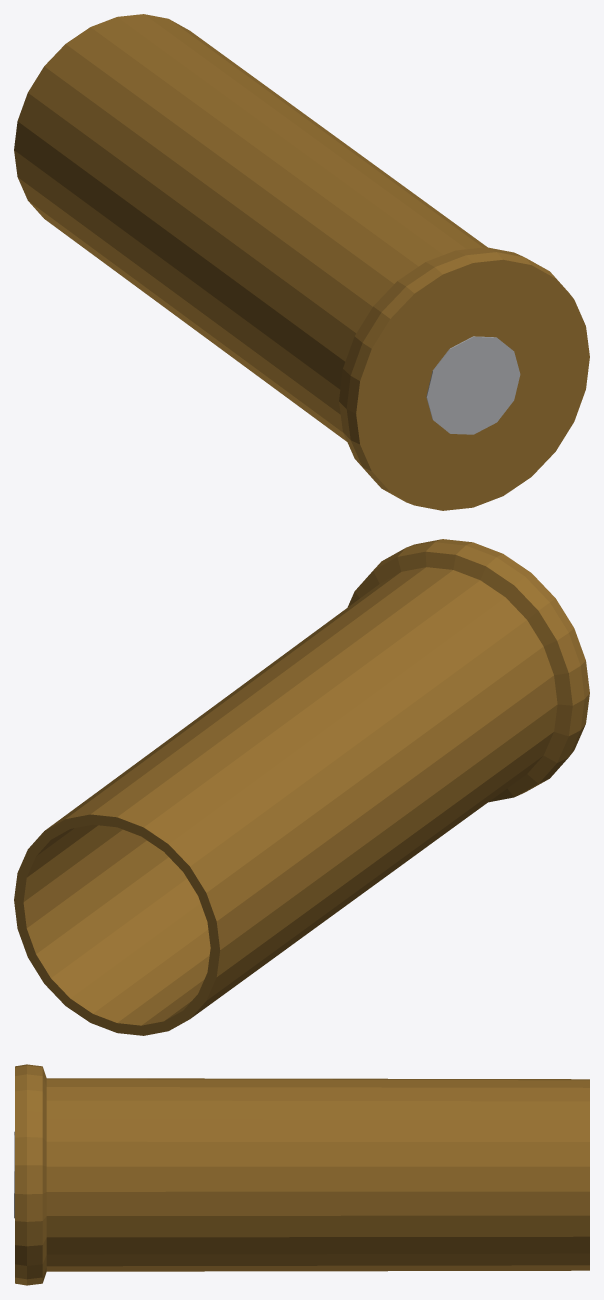
File: estojo_38.glb
3 renders of one model, top to bottom at view 1: azimuth 30°, elevation 25°; view 2: azimuth 150°, elevation 25°; view 3: azimuth 270°, elevation 25°, orthographic. The views are drawn at different scales.
Parts seen in each view (by area): view 1: estojo_38_latao, estojo_38_aco_inox; view 2: estojo_38_latao; view 3: estojo_38_latao.
Part boxes in pixels (<box>): estojo_38_latao: <box>14,14,589,510</box>; estojo_38_aco_inox: <box>426,336,520,434</box>; estojo_38_latao: <box>14,539,589,1035</box>; estojo_38_latao: <box>15,1064,589,1285</box>.
Bounding box in the file's own units: 0.0112 × 0.0112 × 0.0291.
